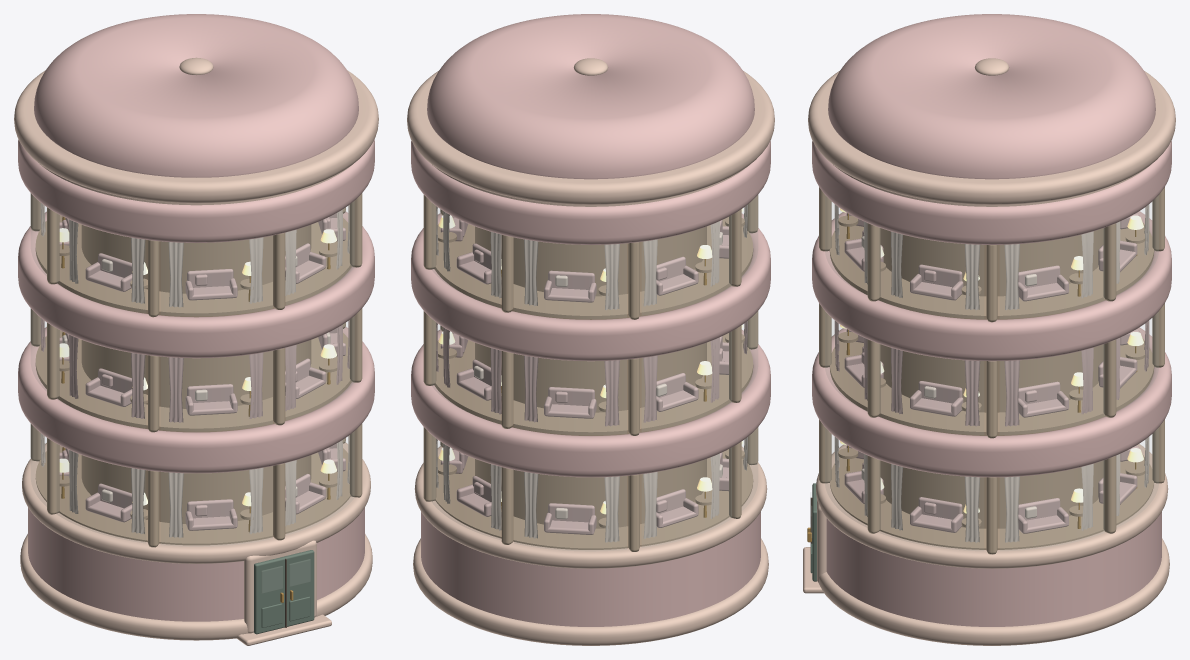
Rendered from central-round-toy-v70.glb.
3 views of the same model, side by side, from view 1: azimuth 30°, elevation 25°; view 2: azimuth 150°, elevation 25°; view 3: azimuth 270°, elevation 25° (orthographic).
Visible parts, largest first — view 1: arch59_blush, room59_glass_sage, room59_warm_backing, arch59_pillow_trim, room59_curtain_blush, arch59_champagne_frame, room59_curtain_ivory, Sage painted joinery, room59_lamp_glow, Brushed brass; view 2: arch59_blush, room59_glass_sage, room59_warm_backing, arch59_pillow_trim, room59_curtain_blush, arch59_champagne_frame, room59_curtain_ivory, room59_lamp_glow; view 3: arch59_blush, room59_glass_sage, room59_warm_backing, arch59_pillow_trim, room59_curtain_blush, arch59_champagne_frame, room59_curtain_ivory, room59_lamp_glow, Sage painted joinery.
Part boxes in pixels (x1=…): arch59_blush: x1=18, y1=14, x2=374, y2=621; room59_glass_sage: x1=31, y1=194, x2=353, y2=592; room59_warm_backing: x1=35, y1=215, x2=351, y2=545; arch59_pillow_trim: x1=14, y1=57, x2=378, y2=645; room59_curtain_blush: x1=40, y1=213, x2=349, y2=530; arch59_champagne_frame: x1=30, y1=193, x2=362, y2=547; room59_curtain_ivory: x1=40, y1=203, x2=349, y2=538; Sage painted joinery: x1=254, y1=550, x2=314, y2=634; room59_lamp_glow: x1=59, y1=228, x2=336, y2=506; Brushed brass: x1=61, y1=216, x2=330, y2=602; arch59_blush: x1=411, y1=14, x2=770, y2=626; room59_glass_sage: x1=432, y1=196, x2=757, y2=550; room59_warm_backing: x1=434, y1=217, x2=753, y2=549; arch59_pillow_trim: x1=407, y1=58, x2=774, y2=645; room59_curtain_blush: x1=436, y1=216, x2=747, y2=534; arch59_champagne_frame: x1=423, y1=195, x2=758, y2=551; room59_curtain_ivory: x1=436, y1=204, x2=747, y2=542; room59_lamp_glow: x1=438, y1=208, x2=743, y2=514; arch59_blush: x1=812, y1=14, x2=1171, y2=626; room59_glass_sage: x1=810, y1=196, x2=1158, y2=550; room59_warm_backing: x1=829, y1=215, x2=1154, y2=549; arch59_pillow_trim: x1=803, y1=58, x2=1175, y2=645; room59_curtain_blush: x1=834, y1=213, x2=1149, y2=533; arch59_champagne_frame: x1=819, y1=187, x2=1164, y2=554; room59_curtain_ivory: x1=834, y1=204, x2=1149, y2=542; room59_lamp_glow: x1=840, y1=208, x2=1143, y2=513; Sage painted joinery: x1=810, y1=483, x2=816, y2=581.
Size of the model in its own units: 9.38 by 14.4 by 9.51.
